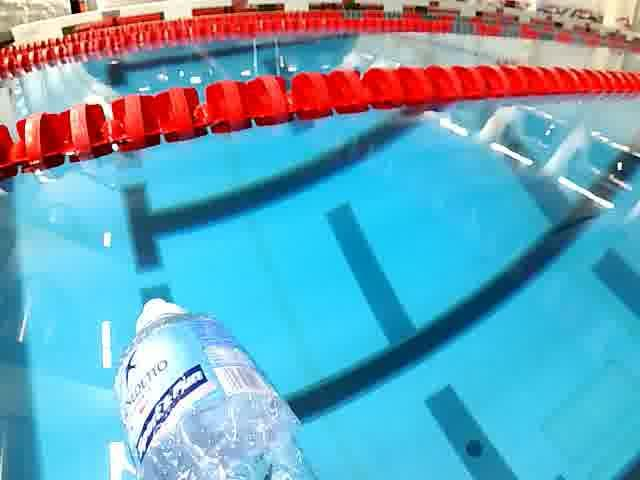Bottle: (112, 291, 324, 480)
